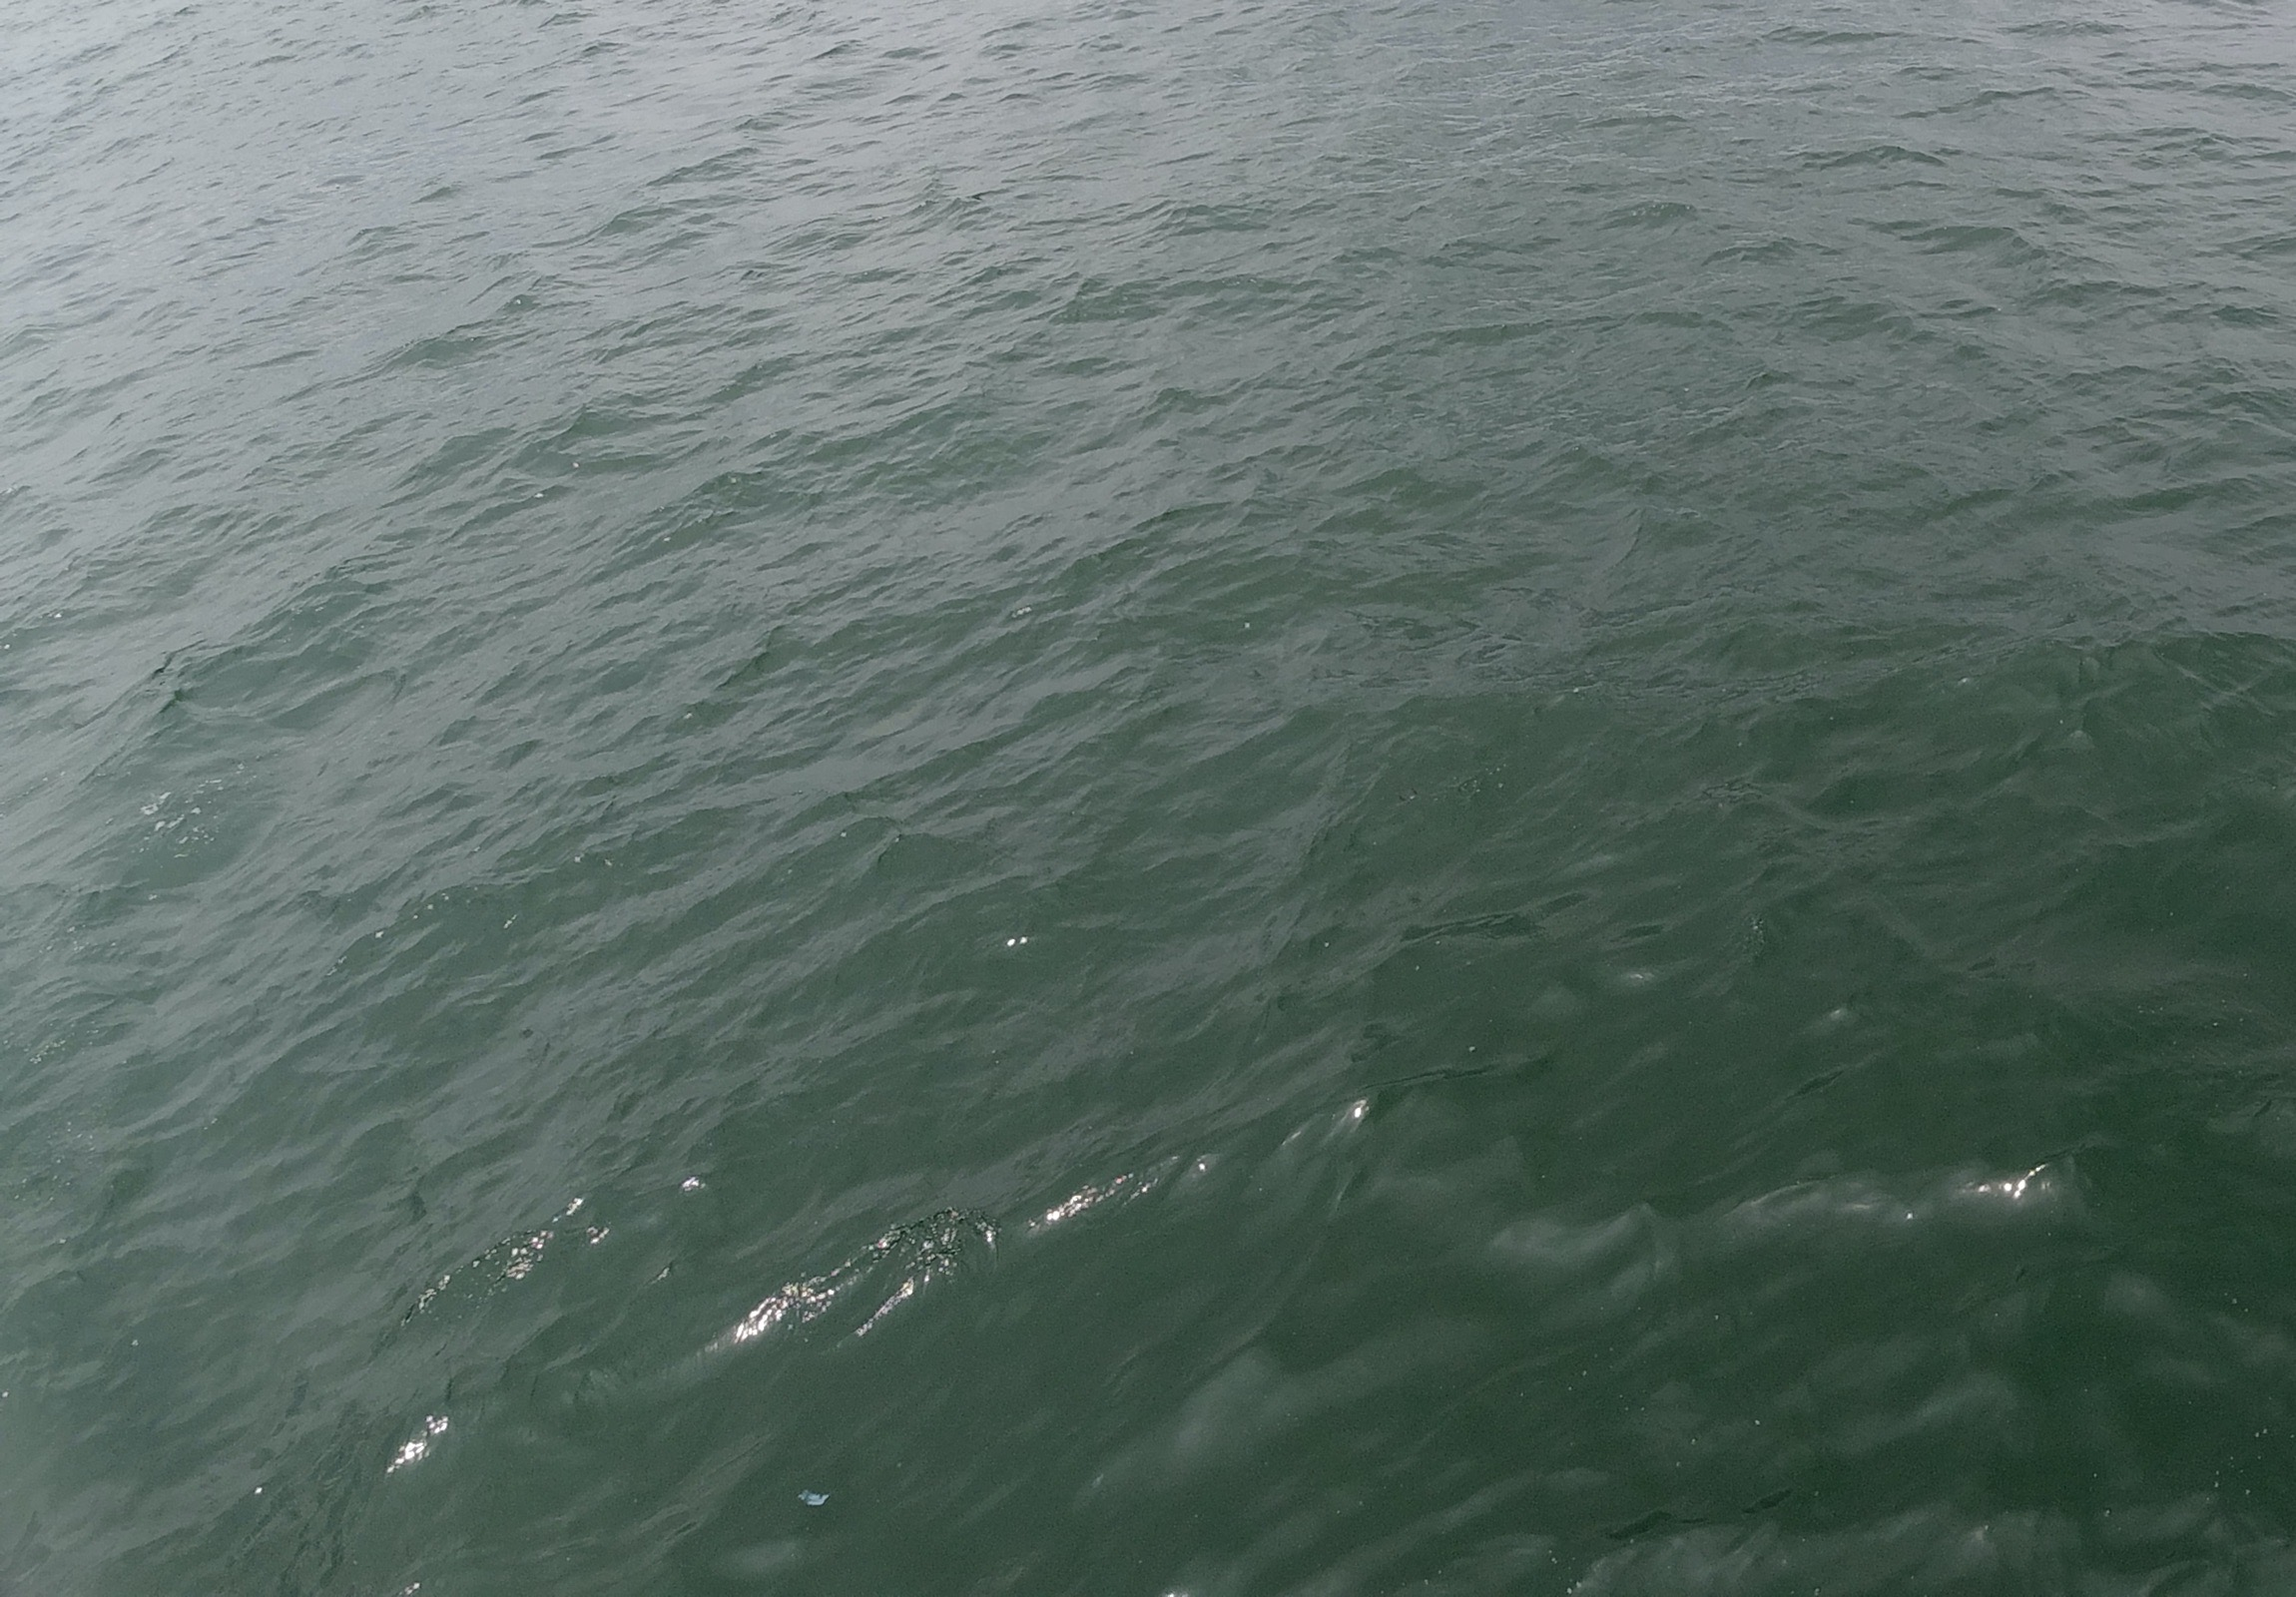plastic: (794, 1485, 829, 1511)
